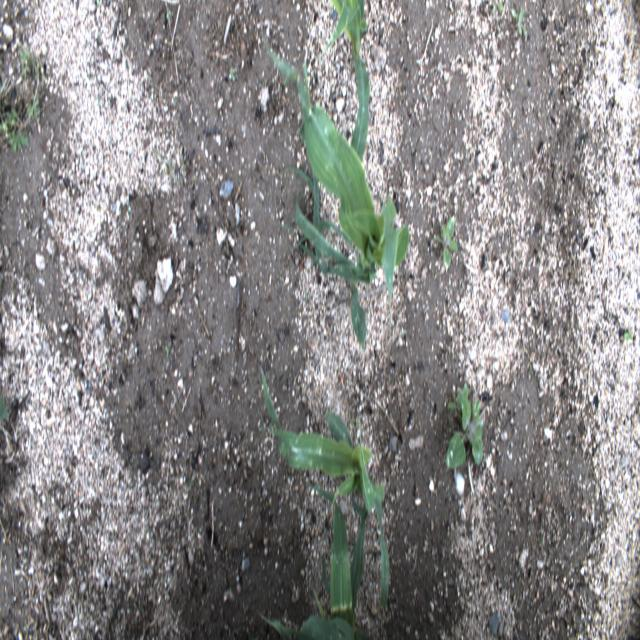crop: (263, 40, 410, 346), (258, 367, 389, 616), (258, 484, 374, 640), (315, 0, 370, 179)
weed: (445, 395, 483, 469), (0, 89, 40, 154), (431, 214, 458, 272), (152, 150, 186, 182), (18, 42, 44, 82), (447, 384, 469, 423), (511, 8, 527, 38), (0, 394, 7, 423), (490, 2, 504, 16), (623, 329, 633, 341), (229, 68, 235, 81), (45, 491, 51, 503), (189, 476, 194, 487)
